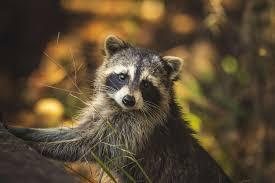raccoon: (0, 17, 242, 183)
